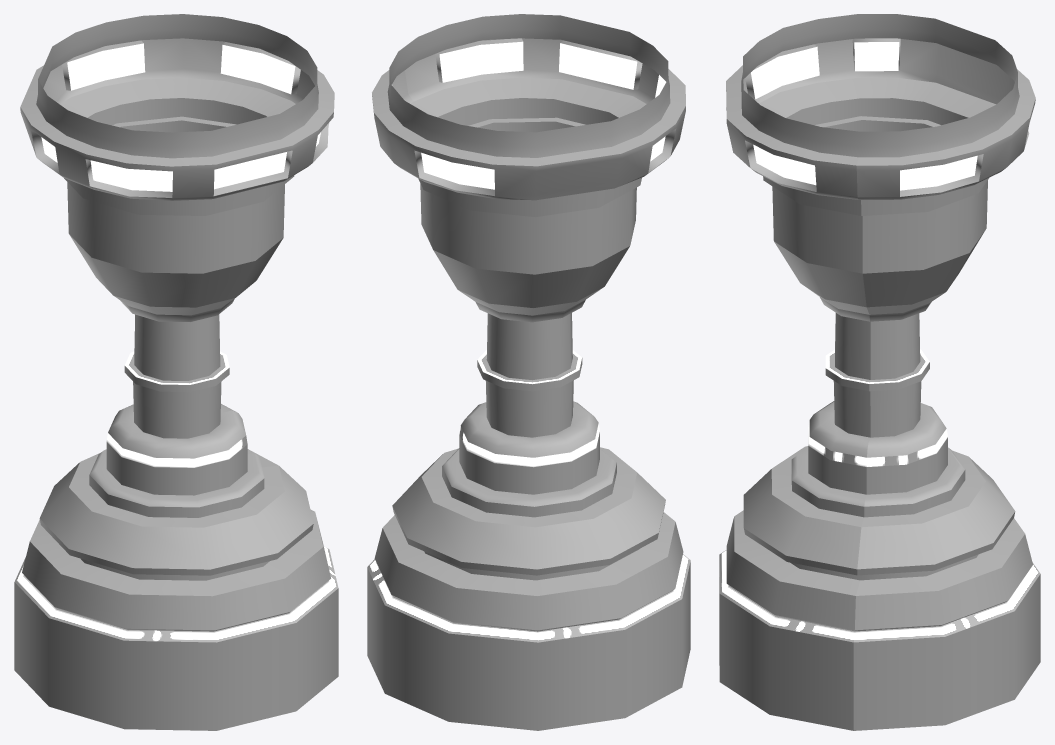
Rendered from KF_SM_Turbine.fbx.
3 renders of one model, left to right at view 1: azimuth 30°, elevation 25°; view 2: azimuth 150°, elevation 25°; view 3: azimuth 270°, elevation 25°, orthographic.
Parts seen in each view (by area): view 1: KF_SM_Turbine; view 2: KF_SM_Turbine; view 3: KF_SM_Turbine.
Boxes of the visible parts, x1,y1,x2,y2 form: KF_SM_Turbine: (14, 14, 338, 730); KF_SM_Turbine: (367, 14, 690, 730); KF_SM_Turbine: (719, 14, 1040, 730).
Bounding box in the file's own units: 612 × 1228 × 606.
